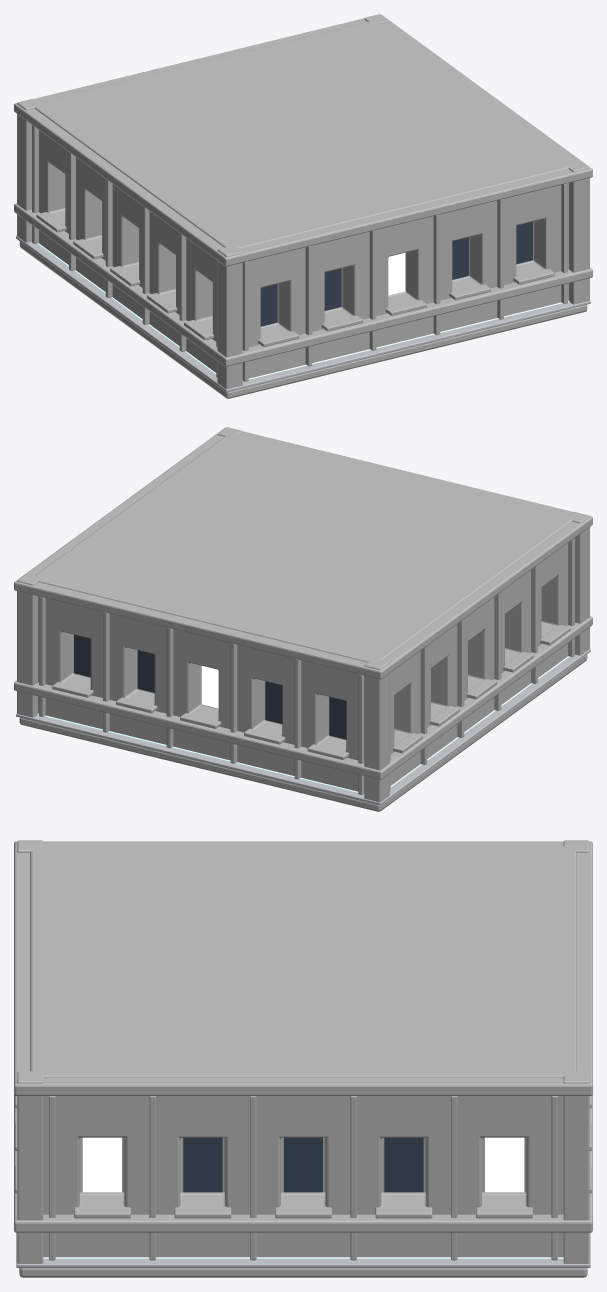
File: concrete_5x5.glb
3 renders of one model, top to bottom at view 1: azimuth 30°, elevation 25°; view 2: azimuth 150°, elevation 25°; view 3: azimuth 270°, elevation 25°, orthographic. The views are drawn at different scales.
Visible parts, largest first — view 1: int_ceiling, ext_wall, ext_frames, ext_ledge_top, int_columns, ext_ledge_mid, int_slab_edge, int_slab, ext_panes_dark, int_grid, ext_panes_lit; view 2: int_ceiling, ext_wall, ext_frames, ext_ledge_top, int_columns, ext_ledge_mid, int_slab_edge, int_slab, ext_panes_dark, int_grid, ext_panes_lit; view 3: int_ceiling, ext_wall, ext_ledge_top, ext_frames, ext_ledge_mid, int_columns, ext_panes_dark, int_slab, int_slab_edge, ext_panes_lit, int_grid.
Boxes of the visible parts, x1,y1,x2,y2 form: int_ceiling: (34, 20, 571, 249); ext_wall: (39, 130, 568, 378); ext_frames: (32, 125, 567, 381); ext_ledge_top: (14, 14, 592, 266); int_columns: (17, 14, 589, 389); ext_ledge_mid: (14, 203, 592, 366); int_slab_edge: (16, 235, 590, 392); int_slab: (19, 241, 587, 398); ext_panes_dark: (260, 221, 532, 326); int_grid: (37, 243, 569, 379); ext_panes_lit: (388, 253, 405, 295); int_ceiling: (35, 433, 572, 662); ext_wall: (38, 543, 567, 791); ext_frames: (39, 538, 574, 794); ext_ledge_top: (14, 427, 592, 679); int_columns: (17, 427, 589, 802); ext_ledge_mid: (14, 616, 592, 779); int_slab_edge: (16, 648, 590, 805); int_slab: (19, 654, 587, 811); ext_panes_dark: (74, 634, 346, 739); int_grid: (37, 656, 569, 792); ext_panes_lit: (201, 666, 218, 708); int_ceiling: (30, 846, 576, 1078); ext_wall: (43, 1096, 563, 1257); ext_ledge_top: (14, 841, 592, 1095); ext_frames: (15, 1096, 591, 1260); ext_ledge_mid: (14, 1094, 592, 1232); int_columns: (17, 840, 589, 1263); ext_panes_dark: (183, 1137, 423, 1192); int_slab: (19, 1268, 587, 1277); int_slab_edge: (16, 1232, 590, 1267); ext_panes_lit: (82, 1137, 524, 1192); int_grid: (43, 1257, 563, 1258).
Bounding box in the file's own units: 5.3 × 2 × 5.3.
